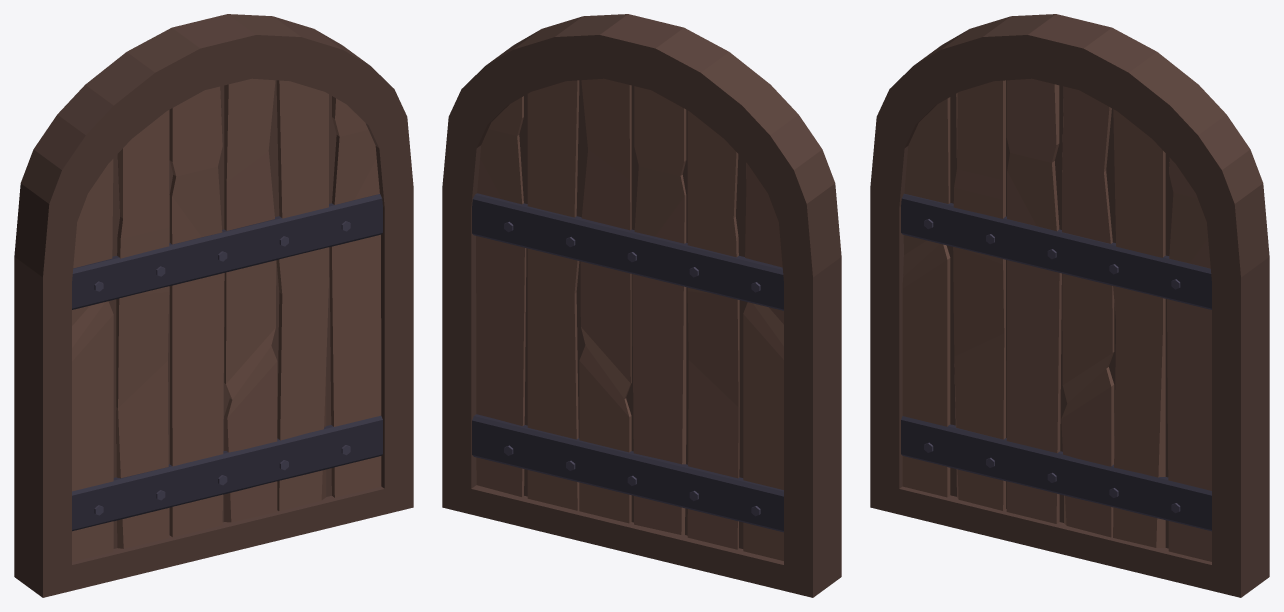
The model's file is quaternius-modular-dungeon-1-arch-door.glb.
3 renders of one model, left to right at view 1: azimuth 30°, elevation 25°; view 2: azimuth 150°, elevation 25°; view 3: azimuth 330°, elevation 25°, orthographic.
Parts seen in each view (by area): view 1: Arch_Door; view 2: Arch_Door; view 3: Arch_Door.
Part boxes in pixels (bbox=[...]): Arch_Door: bbox=[14, 14, 413, 597]; Arch_Door: bbox=[442, 14, 841, 597]; Arch_Door: bbox=[870, 14, 1269, 597].
Bounding box in the file's own units: 2.42 × 3.19 × 0.3295.
